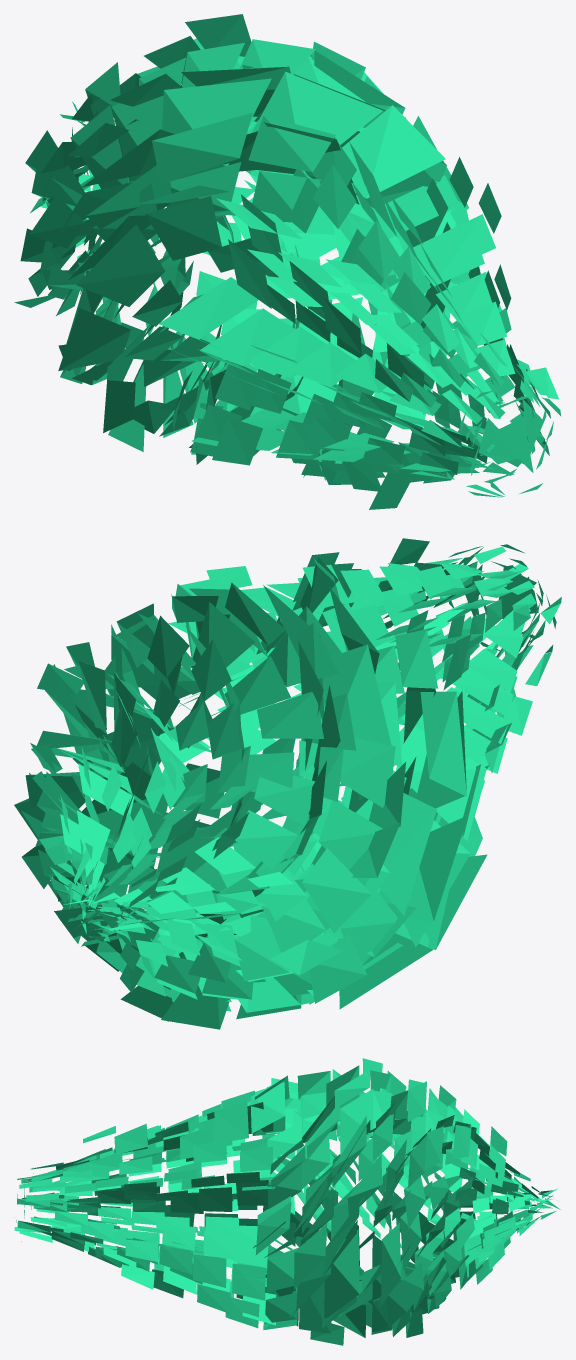
The model's file is swirly.fbx.
3 renders of one model, top to bottom at view 1: azimuth 30°, elevation 25°; view 2: azimuth 150°, elevation 25°; view 3: azimuth 270°, elevation 25°, orthographic. The views are drawn at different scales.
Visible parts, largest first — view 1: Loft, Cap_1; view 2: Loft, Cap_1; view 3: Loft.
Part boxes in pixels (left/top/right/bottom): Loft: left=14, top=14, right=558, bottom=509; Cap_1: left=446, top=390, right=561, bottom=495; Loft: left=14, top=538, right=561, bottom=1029; Cap_1: left=449, top=544, right=556, bottom=652; Loft: left=14, top=1058, right=560, bottom=1345.
Size of the model in its own units: 385 by 377 by 748.
